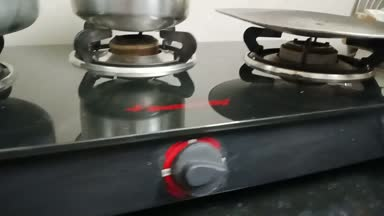flame_gas_off: (72, 25, 234, 198)
